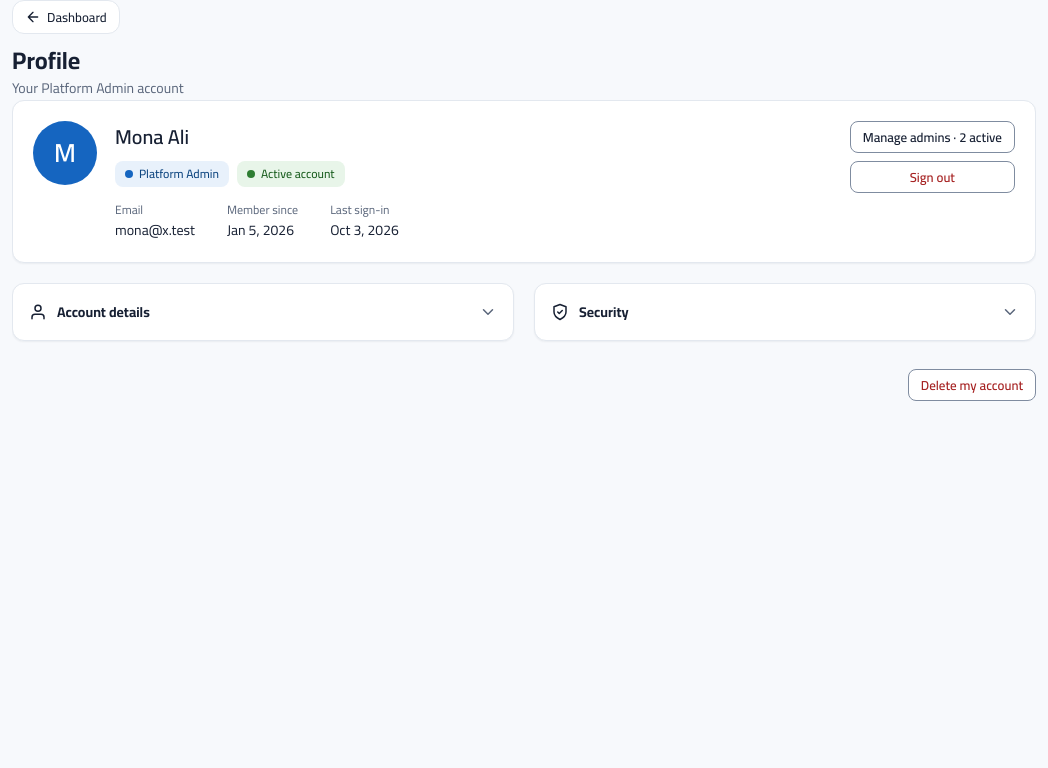
Test: changing the password › changes it, says so and clears the fields
The image size is (1048, 768).
Click the button "Security". click: (604, 312)
box: [535, 284, 1035, 340]
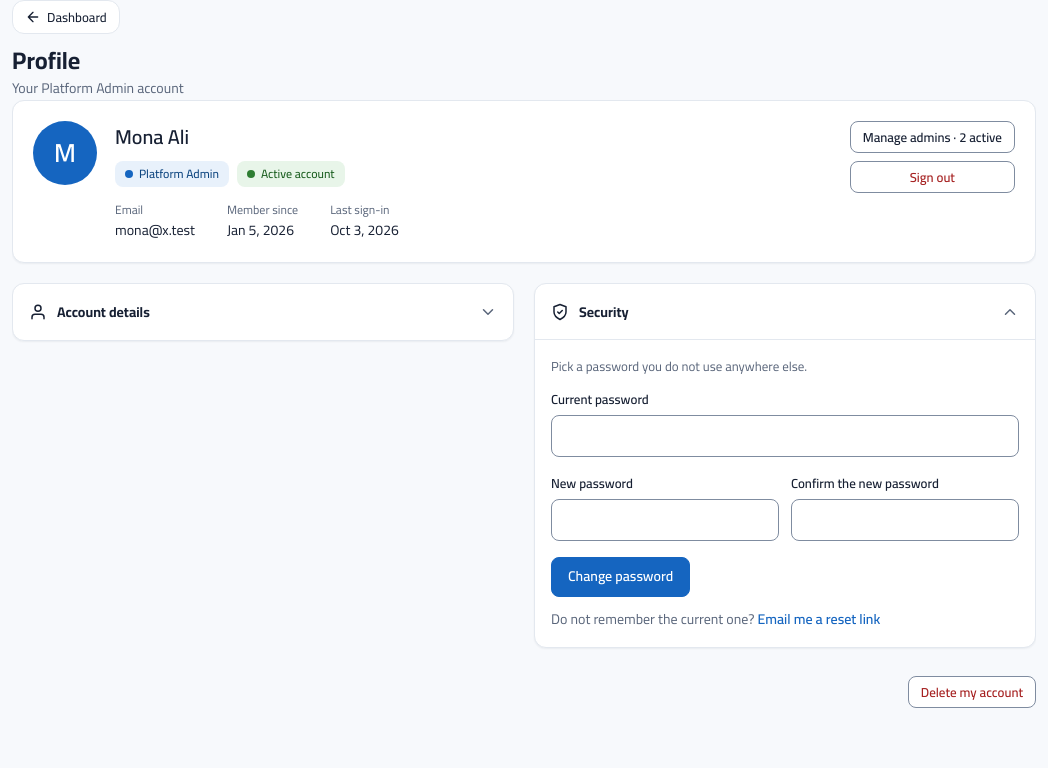
Type "oldpass" into the password field labelled "Current password". click: (785, 436)
box: [551, 415, 1019, 457]
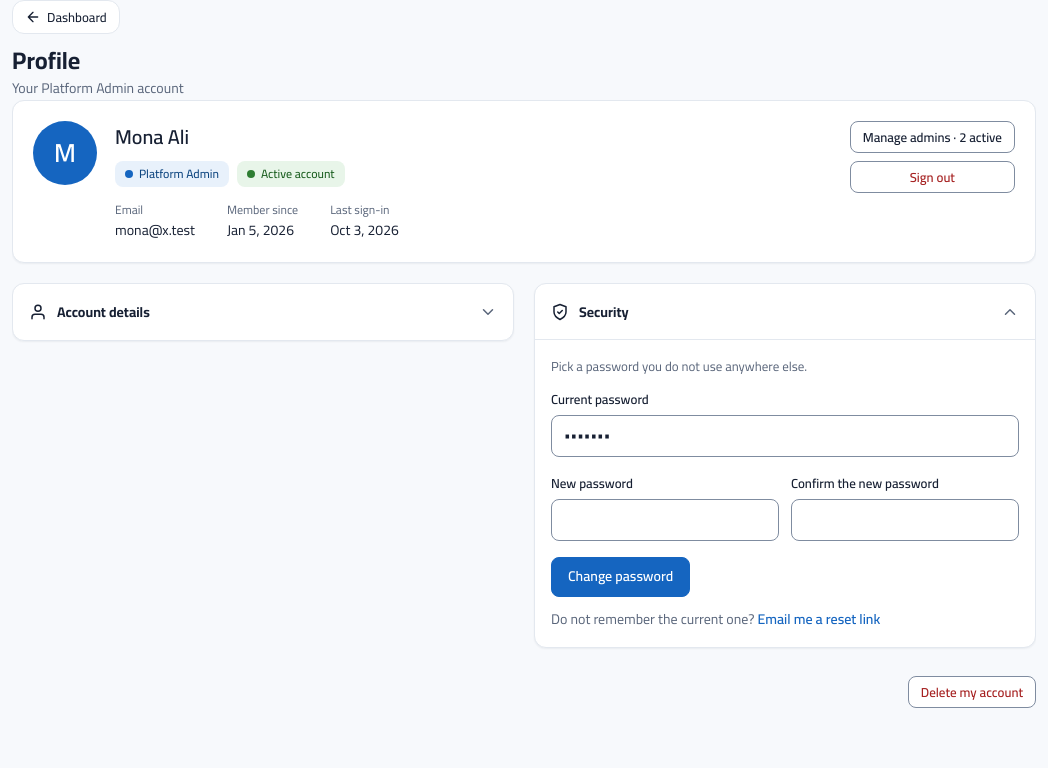
Type "newpass1" into the password field labelled "New password". click: (665, 520)
box: [551, 499, 779, 541]
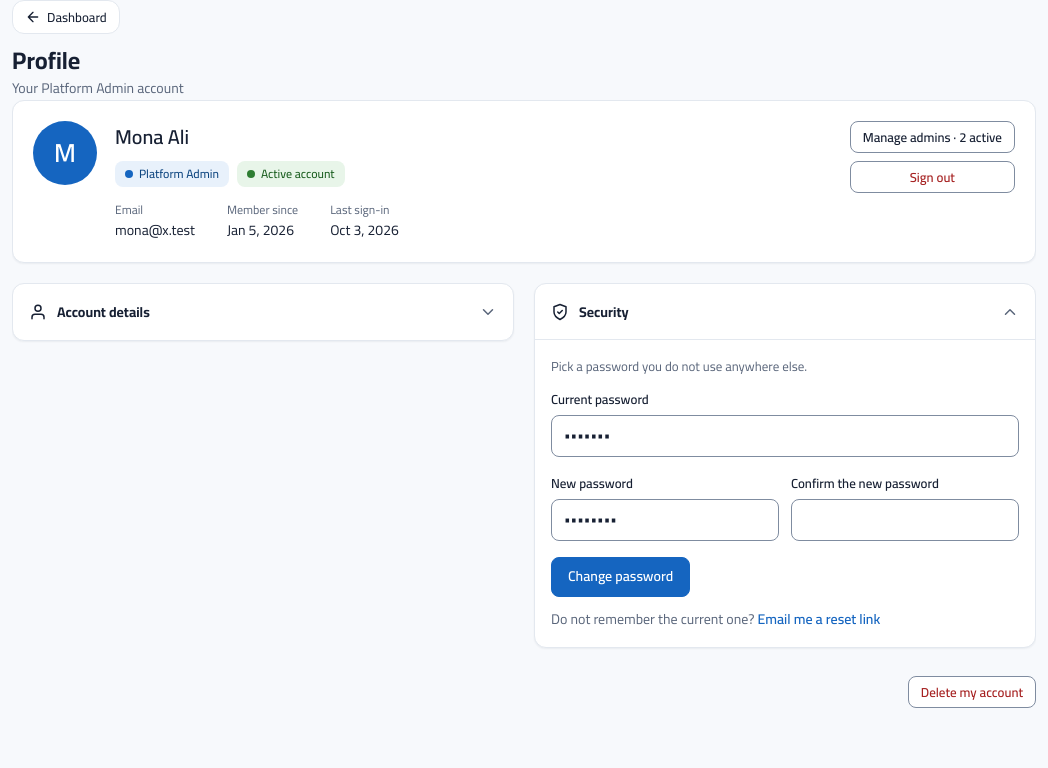
Type "newpass1" into the password field labelled "Confirm the new password". click: (905, 520)
box: [791, 499, 1019, 541]
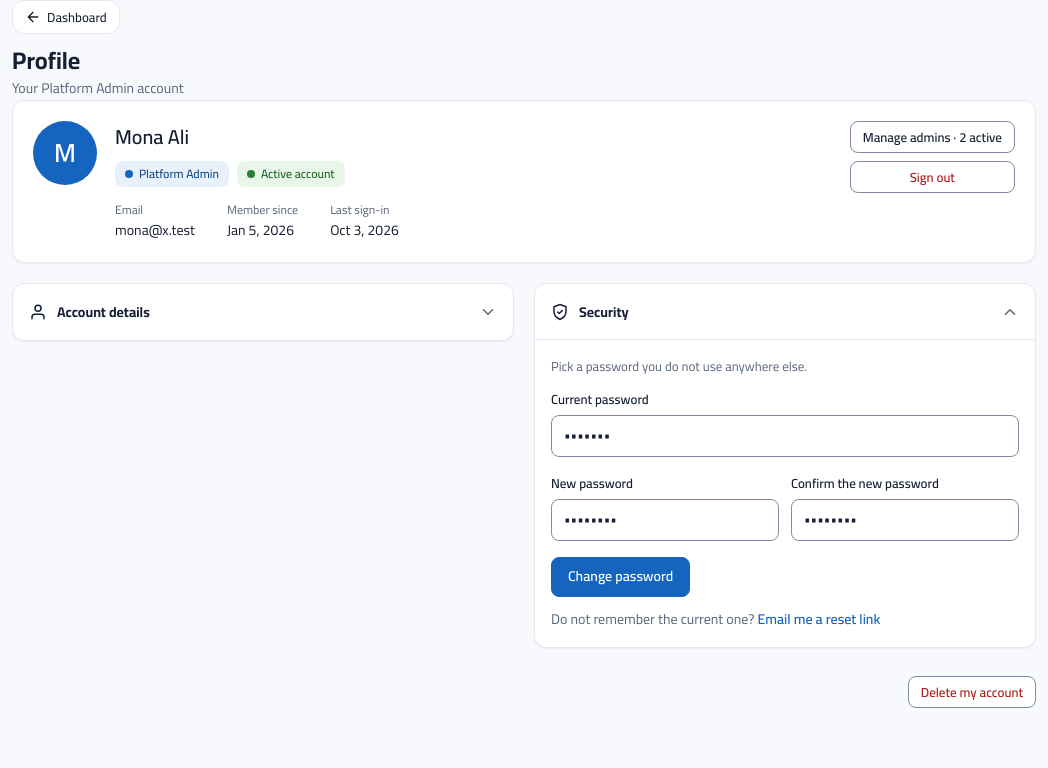
Click the button "Change password". click: (621, 577)
box: [551, 557, 690, 597]
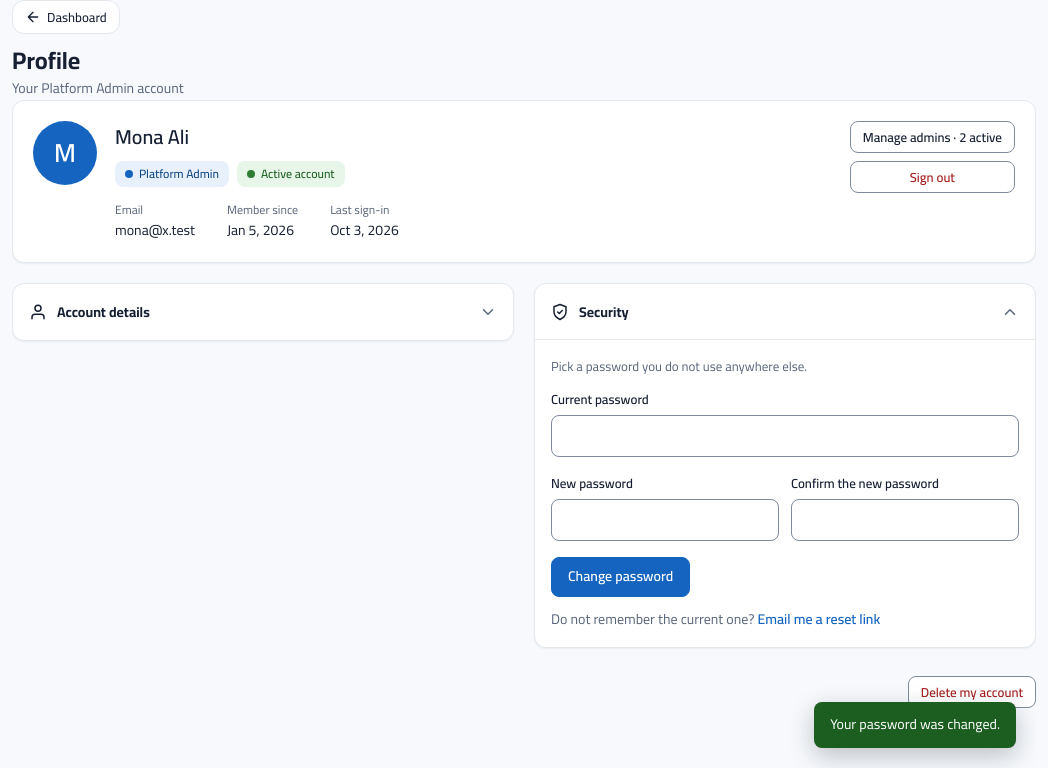
Expected: the text "Your password was changed." is shown, [814, 702, 1016, 748]
Expected: the password field labelled "Current password" is empty, [551, 415, 1019, 457]
